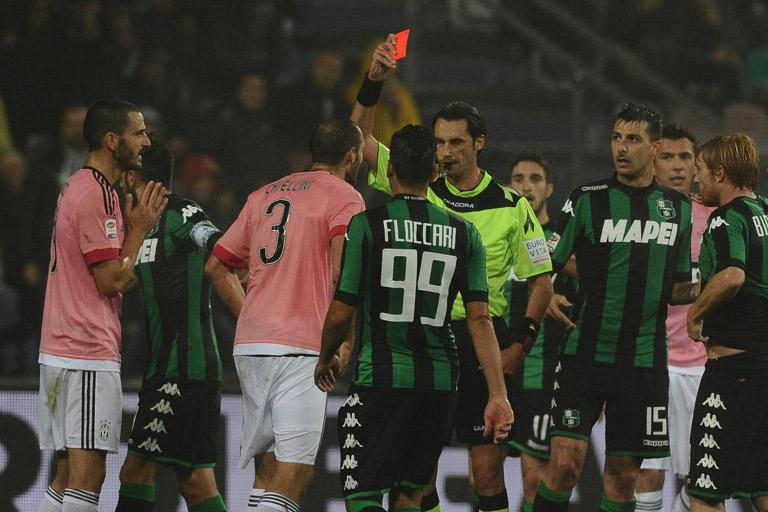red_card: (367, 24, 412, 79)
